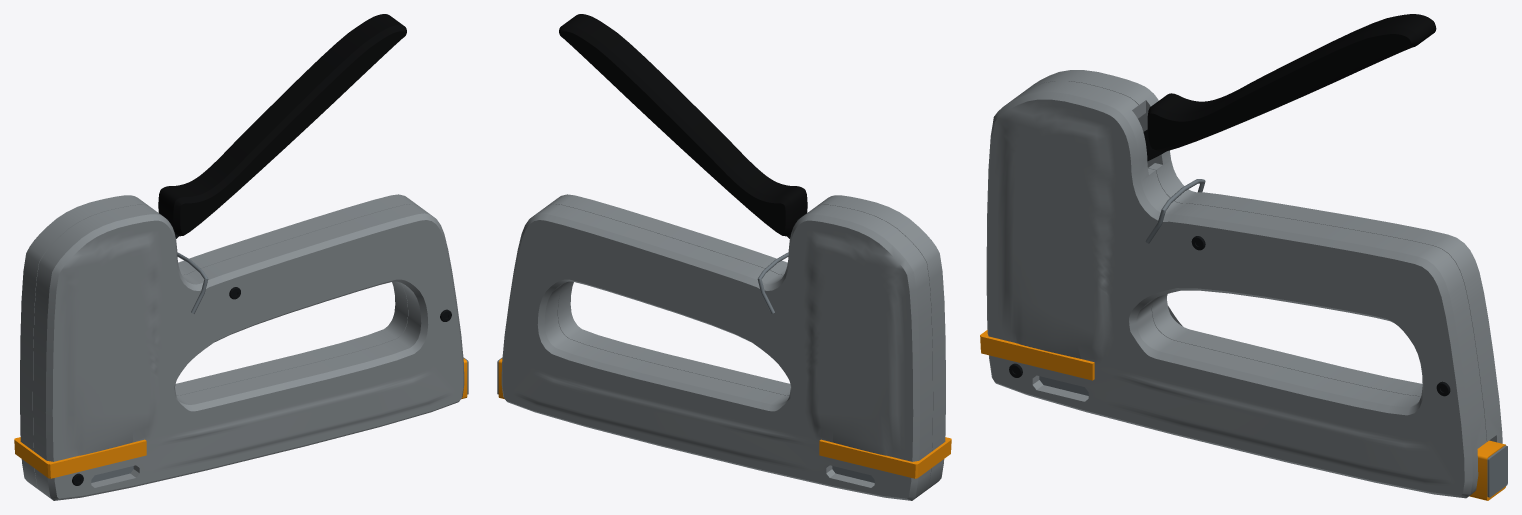
3 renders of one model, left to right at view 1: azimuth 30°, elevation 25°; view 2: azimuth 150°, elevation 25°; view 3: azimuth 330°, elevation 25°, orthographic. The views are drawn at different scales.
Visible parts, largest first — view 1: part_003_Right_cast_frame_shell, part_009_Moulded_squeeze_grip, part_014_Left_cast_frame_shell, part_095_Horizontal_nose_collar; view 2: part_014_Left_cast_frame_shell, part_009_Moulded_squeeze_grip, part_003_Right_cast_frame_shell, part_095_Horizontal_nose_collar; view 3: part_003_Right_cast_frame_shell, part_014_Left_cast_frame_shell, part_009_Moulded_squeeze_grip, part_095_Horizontal_nose_collar, part_005_Rear_loading_heel_plate, part_006_Rear_loading_grip.
Boxes of the visible parts, left/top/right/bottom form: part_003_Right_cast_frame_shell: left=33, top=204, right=464, bottom=500; part_009_Moulded_squeeze_grip: left=158, top=14, right=406, bottom=236; part_014_Left_cast_frame_shell: left=20, top=194, right=417, bottom=490; part_095_Horizontal_nose_collar: left=14, top=437, right=146, bottom=478; part_014_Left_cast_frame_shell: left=501, top=204, right=932, bottom=500; part_009_Moulded_squeeze_grip: left=559, top=14, right=807, bottom=236; part_003_Right_cast_frame_shell: left=548, top=194, right=945, bottom=490; part_095_Horizontal_nose_collar: left=819, top=437, right=951, bottom=478; part_003_Right_cast_frame_shell: left=986, top=81, right=1486, bottom=498; part_014_Left_cast_frame_shell: left=1021, top=70, right=1502, bottom=443; part_009_Moulded_squeeze_grip: left=1147, top=14, right=1436, bottom=152; part_095_Horizontal_nose_collar: left=980, top=330, right=1094, bottom=380; part_005_Rear_loading_heel_plate: left=1487, top=445, right=1507, bottom=497; part_006_Rear_loading_grip: left=1469, top=440, right=1505, bottom=500.
Size of the model in its own units: 0.2189 by 0.1916 by 0.0317.
